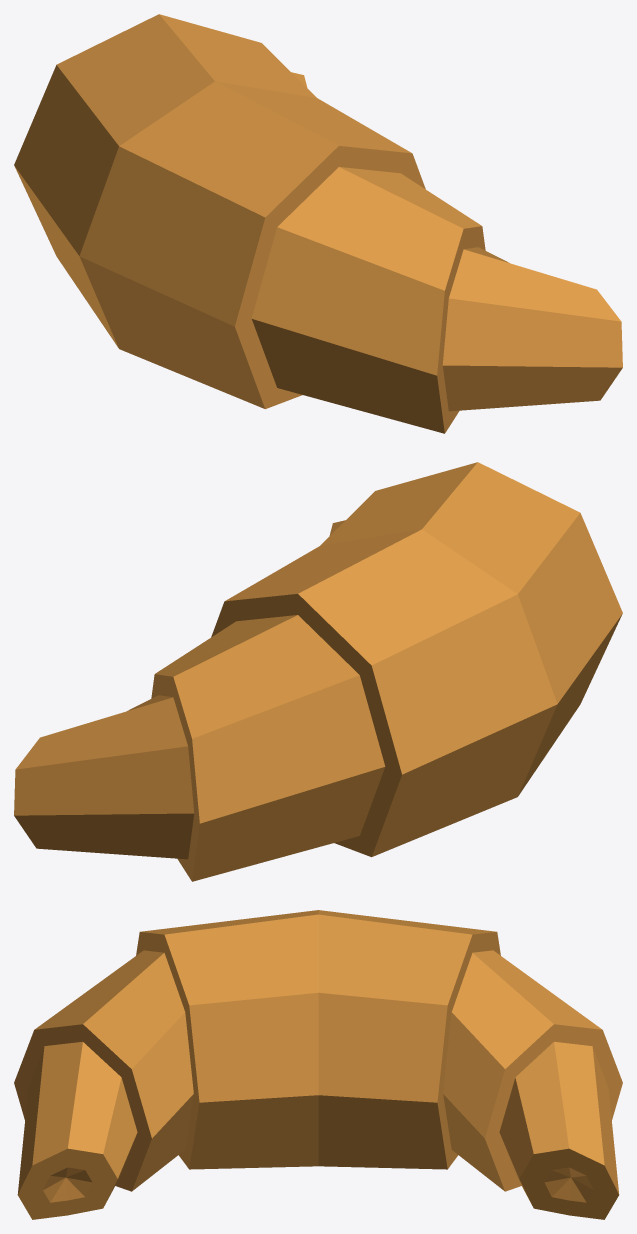
The model's file is Croissant_01.obj.
The picture shows the model from 3 angles, top to bottom: view 1: azimuth 30°, elevation 25°; view 2: azimuth 150°, elevation 25°; view 3: azimuth 270°, elevation 25°; orthographic projection. The views are drawn at different scales.
Parts seen in each view (by area): view 1: Croissant_Circle.005; view 2: Croissant_Circle.005; view 3: Croissant_Circle.005.
Part boxes in pixels (left/top/right/bottom): Croissant_Circle.005: left=14, top=14, right=622, bottom=433; Croissant_Circle.005: left=14, top=462, right=622, bottom=881; Croissant_Circle.005: left=14, top=910, right=622, bottom=1219.
Size of the model in its own units: 6.05 by 3.86 by 9.94.
